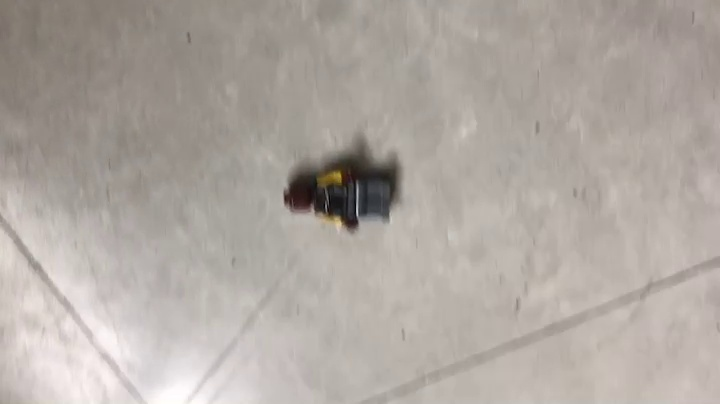people: (282, 163, 398, 232)
